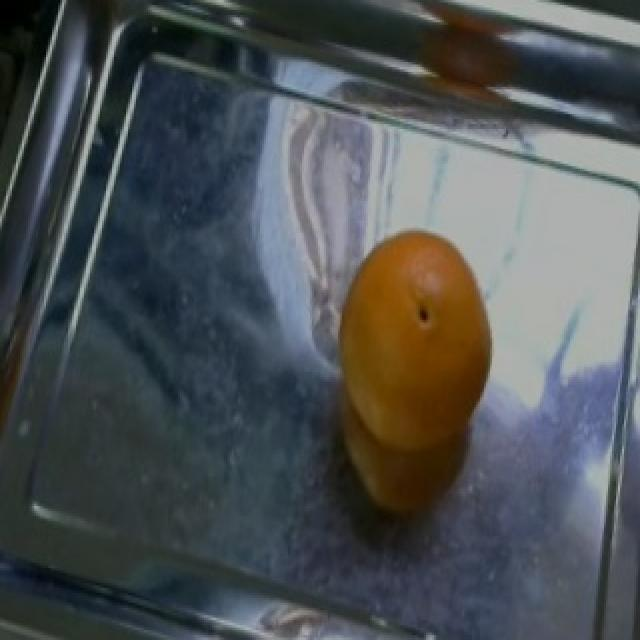Fruit: (314, 213, 500, 536)
